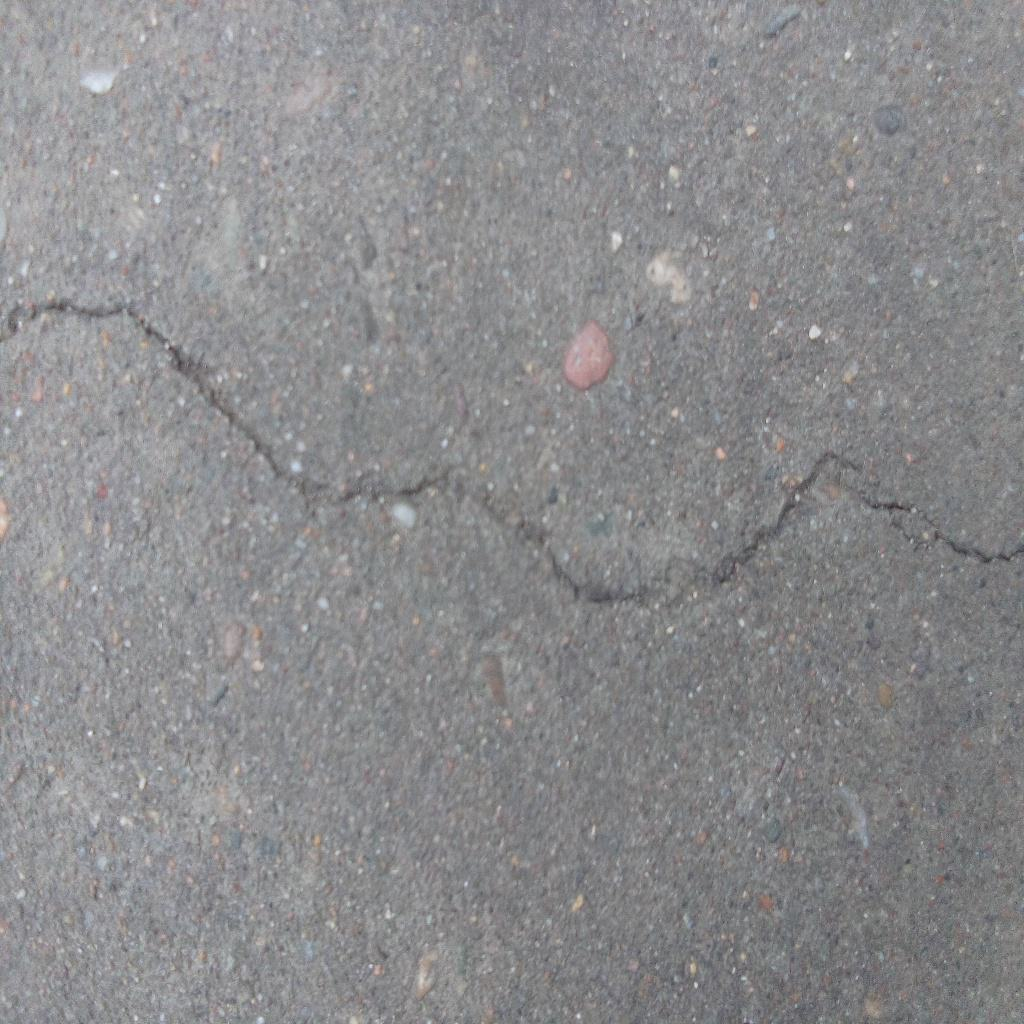Crack: (1, 298, 1024, 607)
